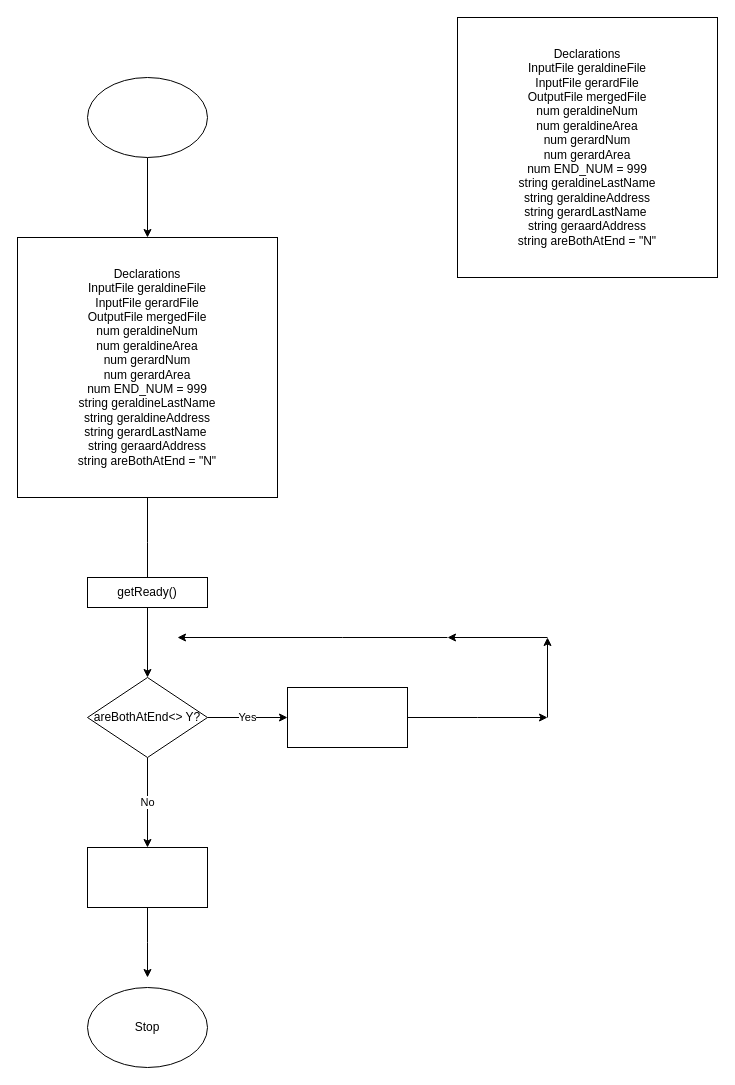
This 735x1085 diagram has some shape labels left out. Each missing label, with the centre of its shape:
finishUp(): (x=147, y=877)
mergeRecords: (x=347, y=717)
Start: (x=147, y=117)
